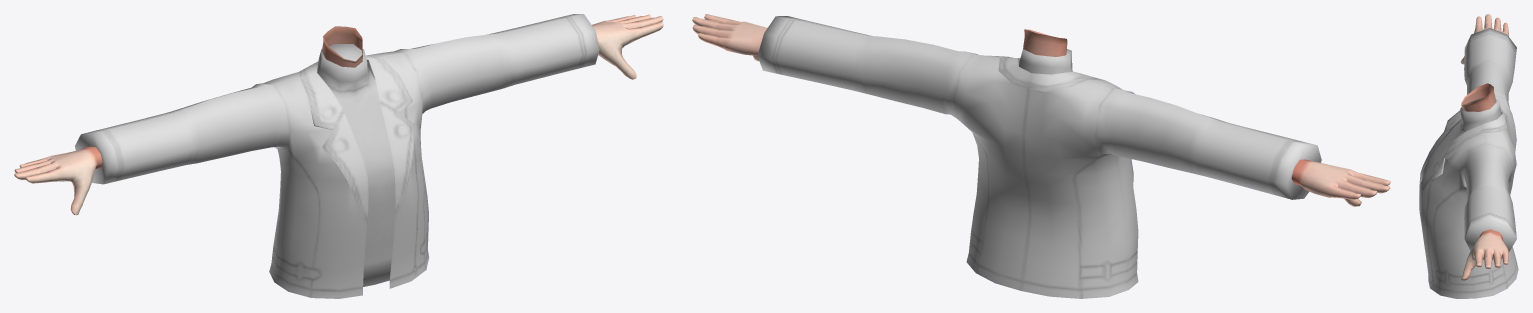
The model's file is tr0790_00_upb03.gltf.
3 renders of one model, left to right at view 1: azimuth 30°, elevation 25°; view 2: azimuth 150°, elevation 25°; view 3: azimuth 270°, elevation 25°, orthographic. The views are drawn at different scales.
Visible parts, largest first — view 1: upb03_upperbody_mesh_shape:upperbody03, upb03_upperskin_mesh_shape:upperbody03_skin; view 2: upb03_upperbody_mesh_shape:upperbody03, upb03_upperskin_mesh_shape:upperbody03_skin; view 3: upb03_upperbody_mesh_shape:upperbody03, upb03_upperskin_mesh_shape:upperbody03_skin.
Part boxes in pixels (left/top/right/bottom): upb03_upperbody_mesh_shape:upperbody03: left=75, top=14, right=599, bottom=298; upb03_upperskin_mesh_shape:upperbody03_skin: left=14, top=14, right=663, bottom=215; upb03_upperbody_mesh_shape:upperbody03: left=757, top=16, right=1321, bottom=298; upb03_upperskin_mesh_shape:upperbody03_skin: left=692, top=14, right=1390, bottom=206; upb03_upperbody_mesh_shape:upperbody03: left=1419, top=28, right=1518, bottom=298; upb03_upperskin_mesh_shape:upperbody03_skin: left=1460, top=14, right=1508, bottom=280.
Size of what is drawn, in the model's own units: 1.63 by 0.5655 by 0.27.
Materials: 2 (2 with a texture image).
